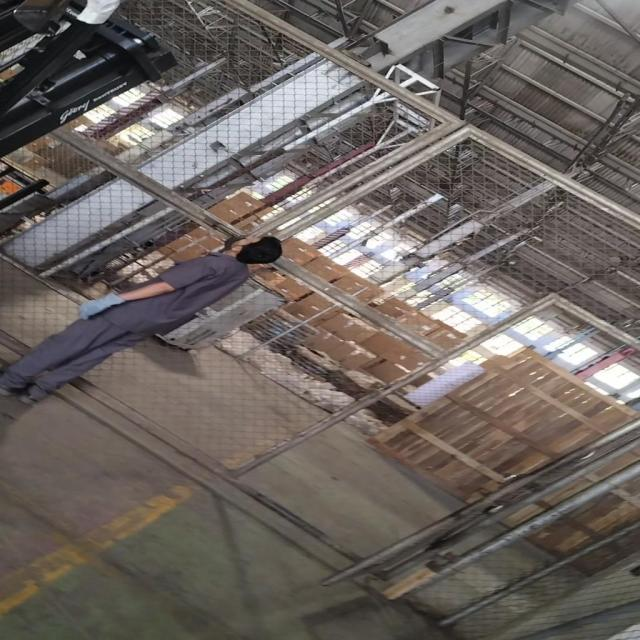Gloves-Detection: (75, 293, 122, 316)
